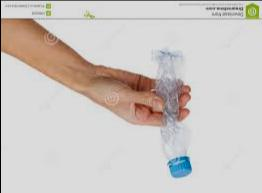Plastic: (144, 43, 195, 184)
